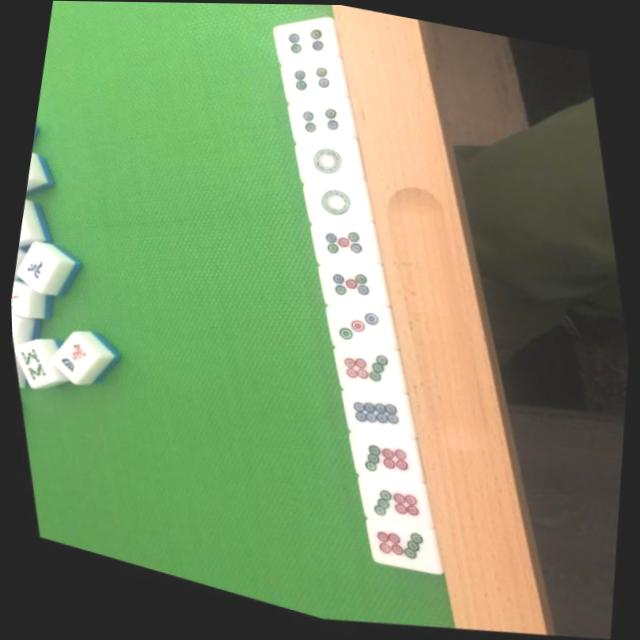sd1: (307, 182, 371, 236), (303, 142, 366, 196)
sd3: (324, 302, 395, 363)
sd4: (283, 23, 342, 73), (291, 62, 348, 110), (300, 104, 355, 150)
sd5: (315, 222, 377, 276), (322, 264, 383, 316)
sd7: (361, 518, 437, 578), (356, 477, 430, 536), (348, 433, 421, 492), (331, 344, 401, 402)
sd8: (341, 386, 418, 448)
